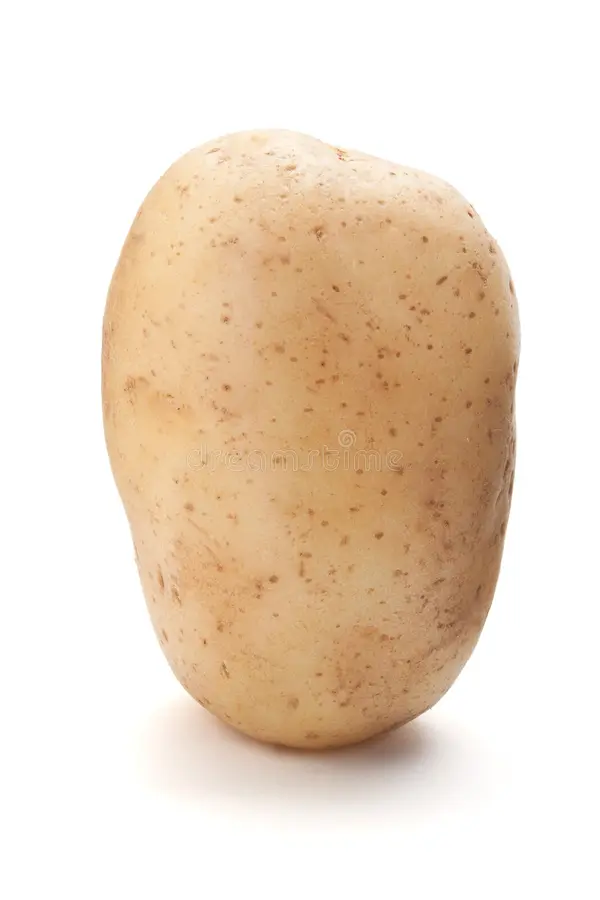potato: (96, 109, 507, 782)
